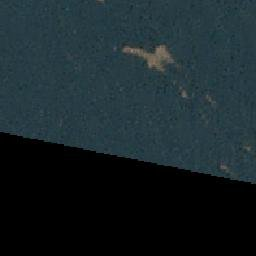debris: (121, 40, 175, 72)
